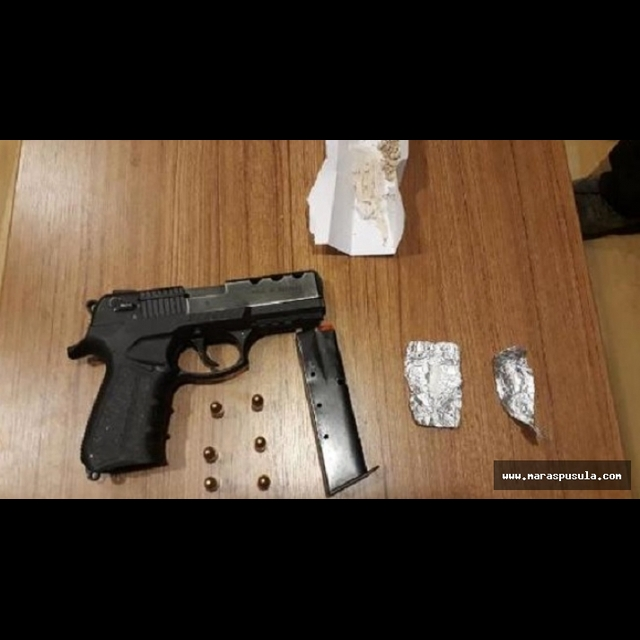SILAH: (55, 267, 296, 482)
